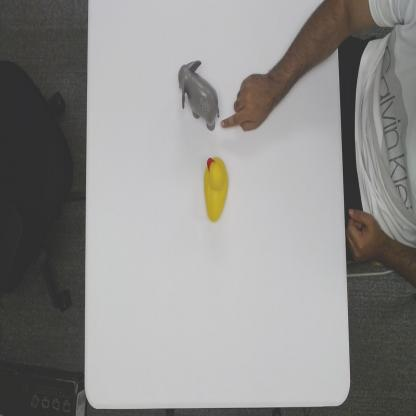Arm: (270, 1, 338, 103)
Duck: (204, 154, 229, 222)
Elephant: (177, 59, 220, 134)
Hand: (220, 71, 282, 137)
